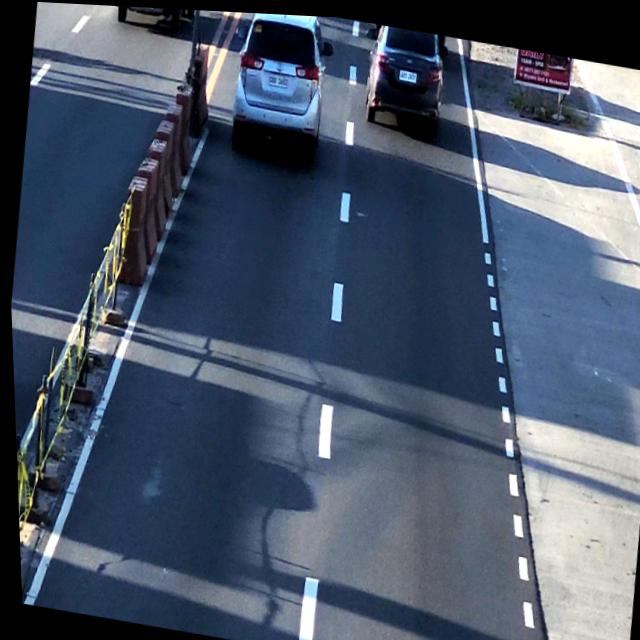Car: (222, 9, 334, 163), (351, 17, 452, 132)
License-Plate: (265, 69, 289, 89), (395, 64, 417, 80)
